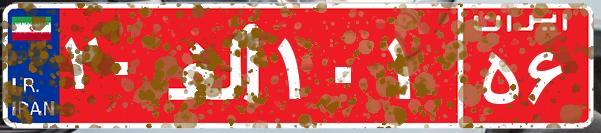0: (330, 28, 385, 110), (110, 28, 158, 105)
1: (385, 28, 445, 110), (273, 28, 330, 110)
2: (57, 26, 110, 107)
5: (475, 38, 525, 113)
6: (525, 38, 570, 115)
الف: (158, 15, 273, 115)
